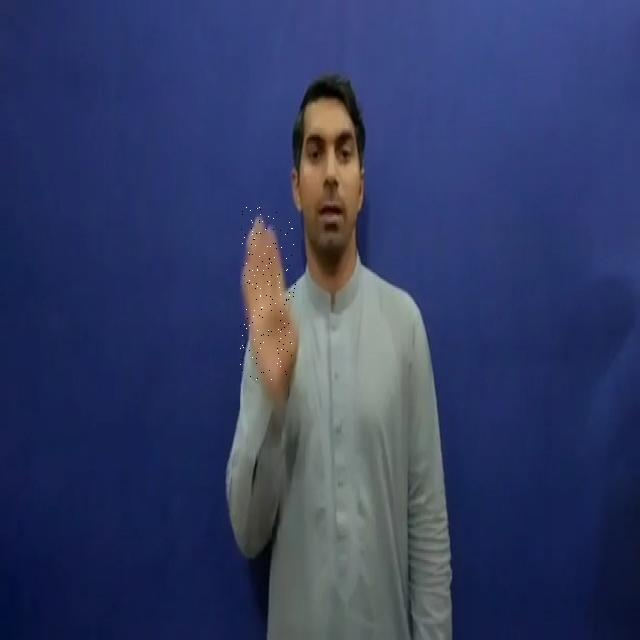napkin: (240, 207, 296, 380)
